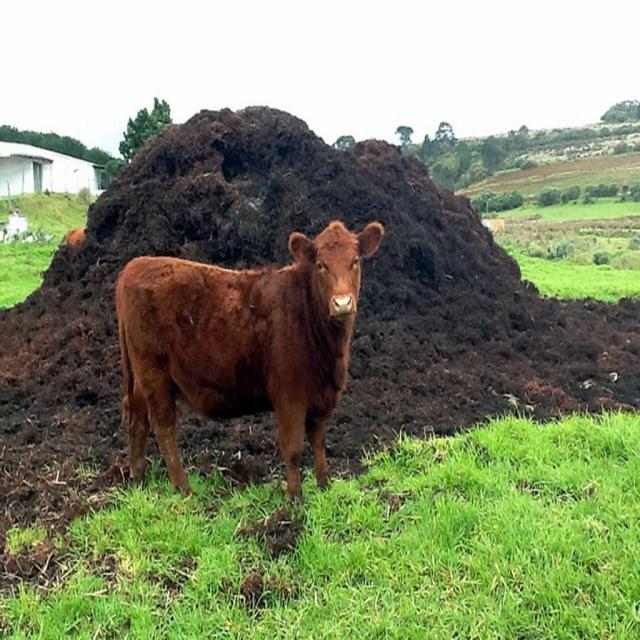Cattle: (116, 220, 386, 506)
